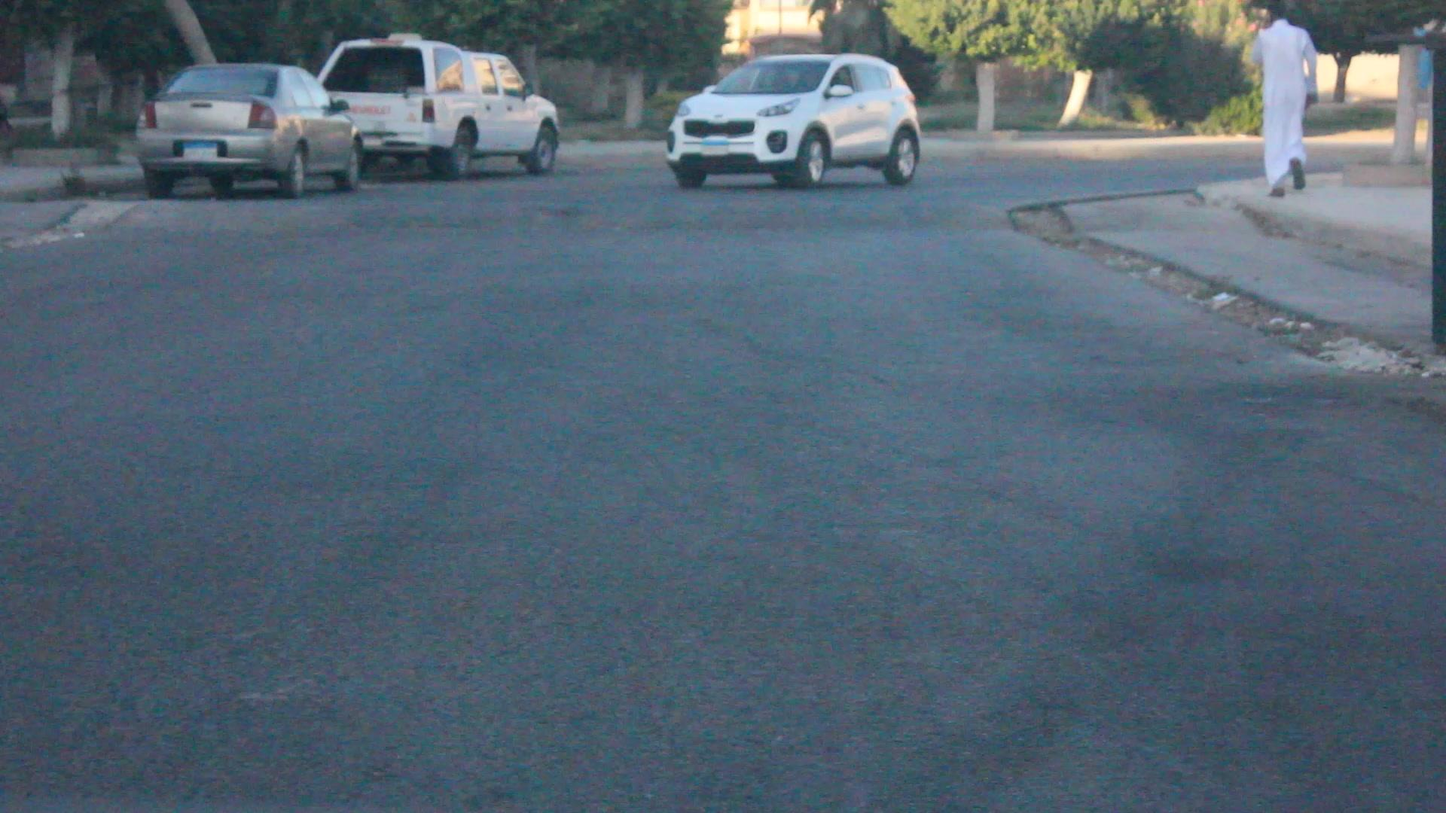Bump: (115, 201, 1051, 230)
